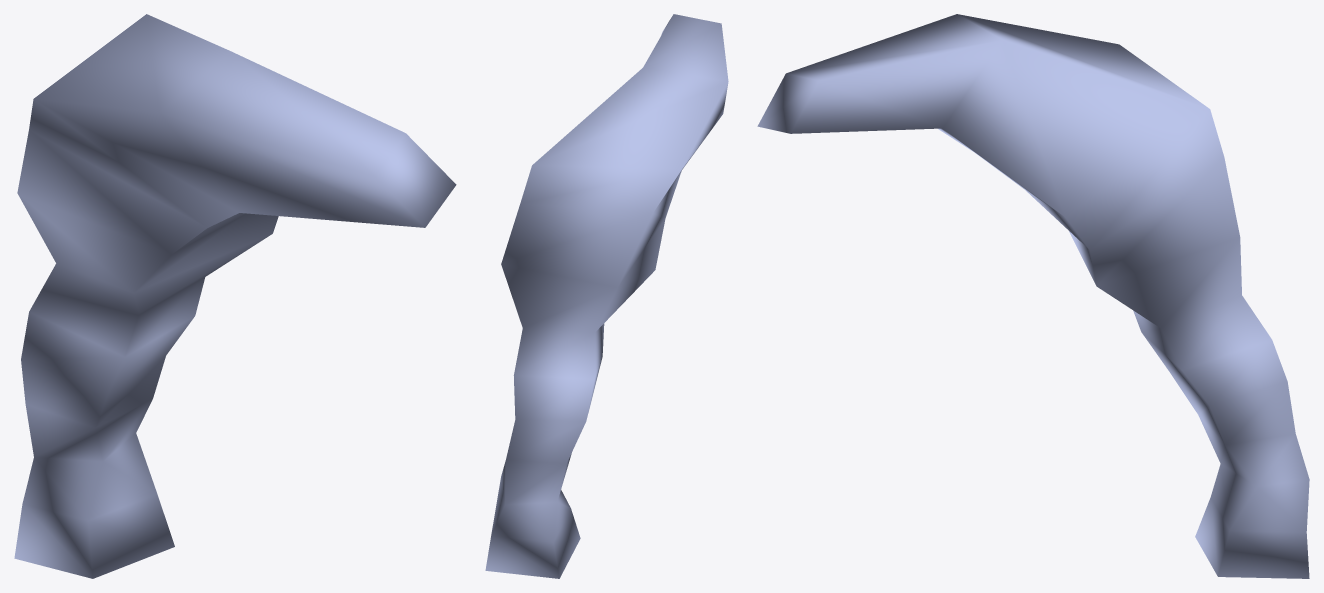
The model's file is Smoke.fbx.
3 views of the same model, side by side, from view 1: azimuth 30°, elevation 25°; view 2: azimuth 150°, elevation 25°; view 3: azimuth 270°, elevation 25° (orthographic). The views are drawn at different scales.
Parts seen in each view (by area): view 1: smoke; view 2: smoke; view 3: smoke.
Part boxes in pixels (box(x1,y1,x2,y2)): smoke: box(14, 14, 456, 578); smoke: box(485, 14, 728, 578); smoke: box(757, 14, 1309, 578).
Size of the model in its own units: 1.26 by 2.93 by 2.83.
